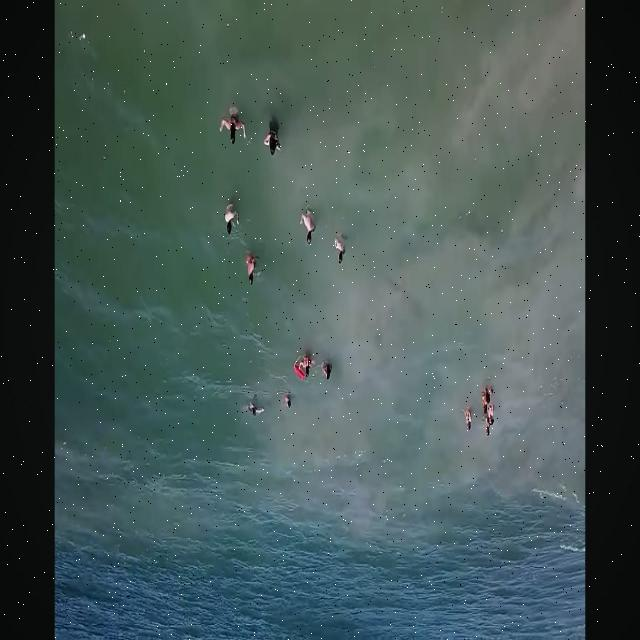humans: (219, 98, 249, 150), (293, 198, 319, 250), (294, 347, 318, 387), (222, 195, 242, 241), (333, 223, 350, 274), (264, 115, 282, 163), (244, 245, 260, 289), (320, 356, 333, 388), (248, 396, 262, 425), (464, 403, 474, 436), (483, 401, 491, 442), (284, 386, 292, 416), (486, 403, 496, 426), (486, 379, 494, 405)
